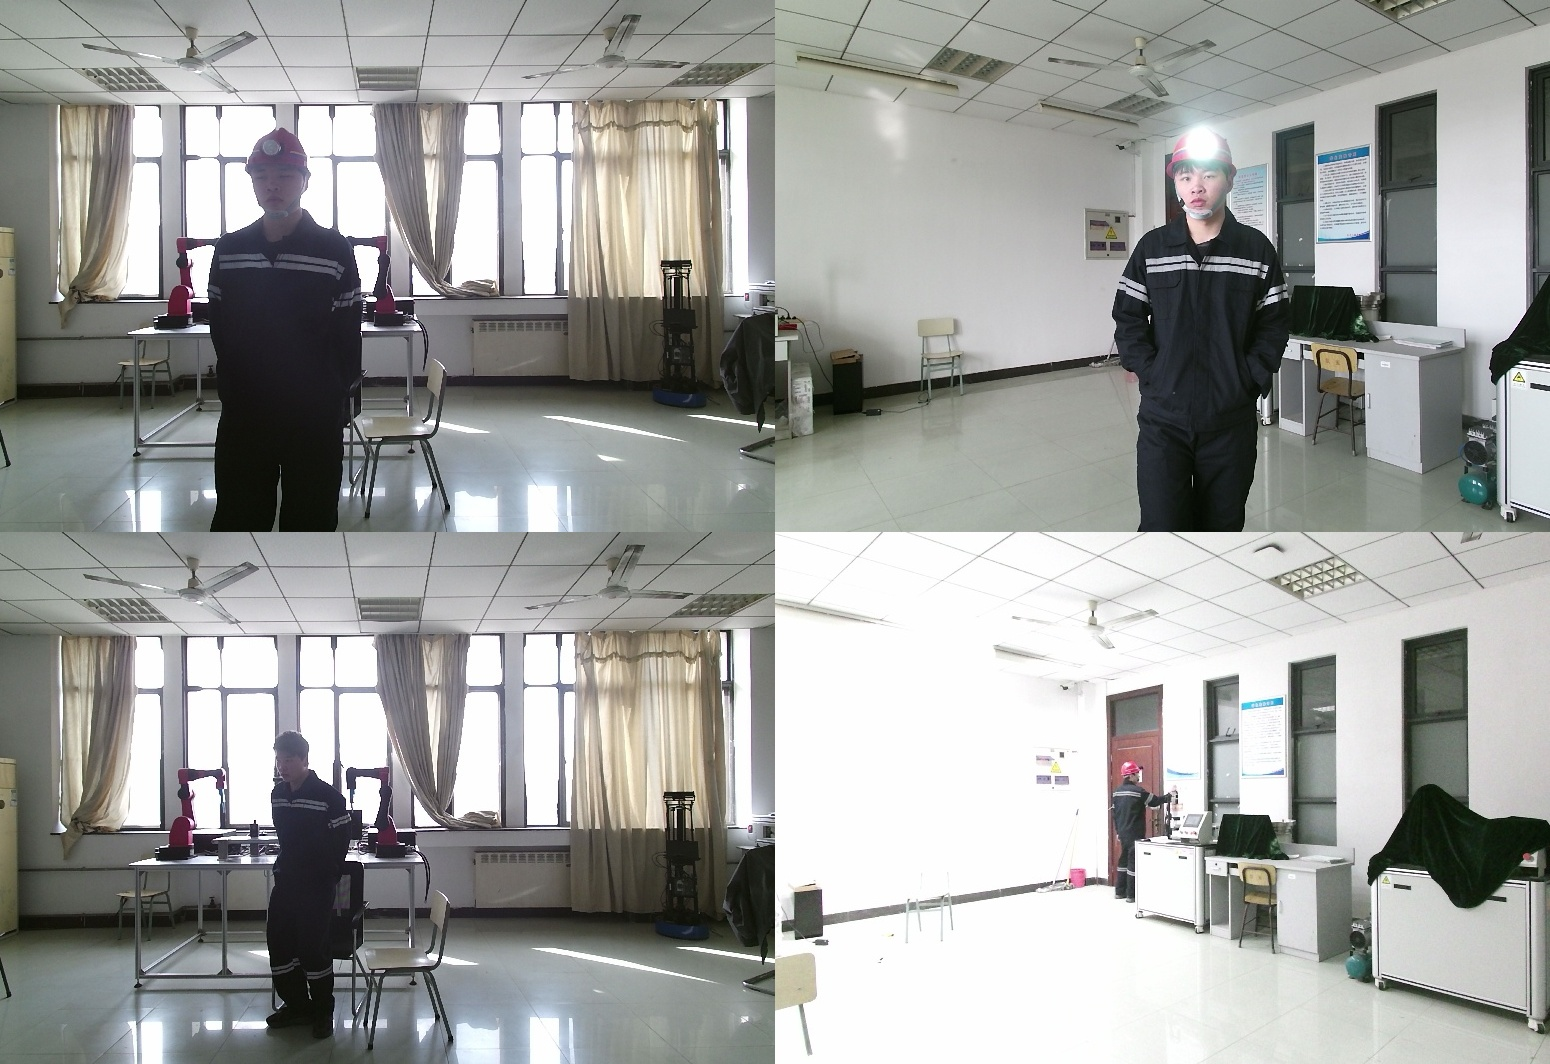person: (1113, 126, 1313, 532), (206, 128, 359, 532), (264, 731, 364, 1033), (1106, 762, 1168, 907)
